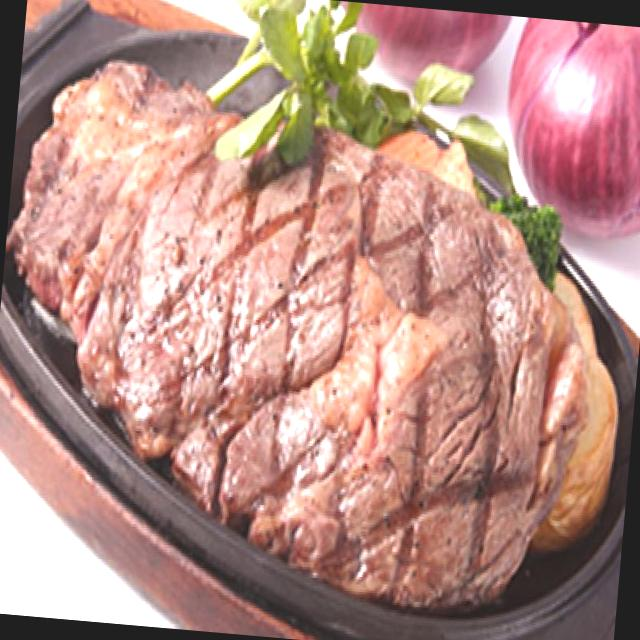Beef Steak: (0, 132, 628, 584)
